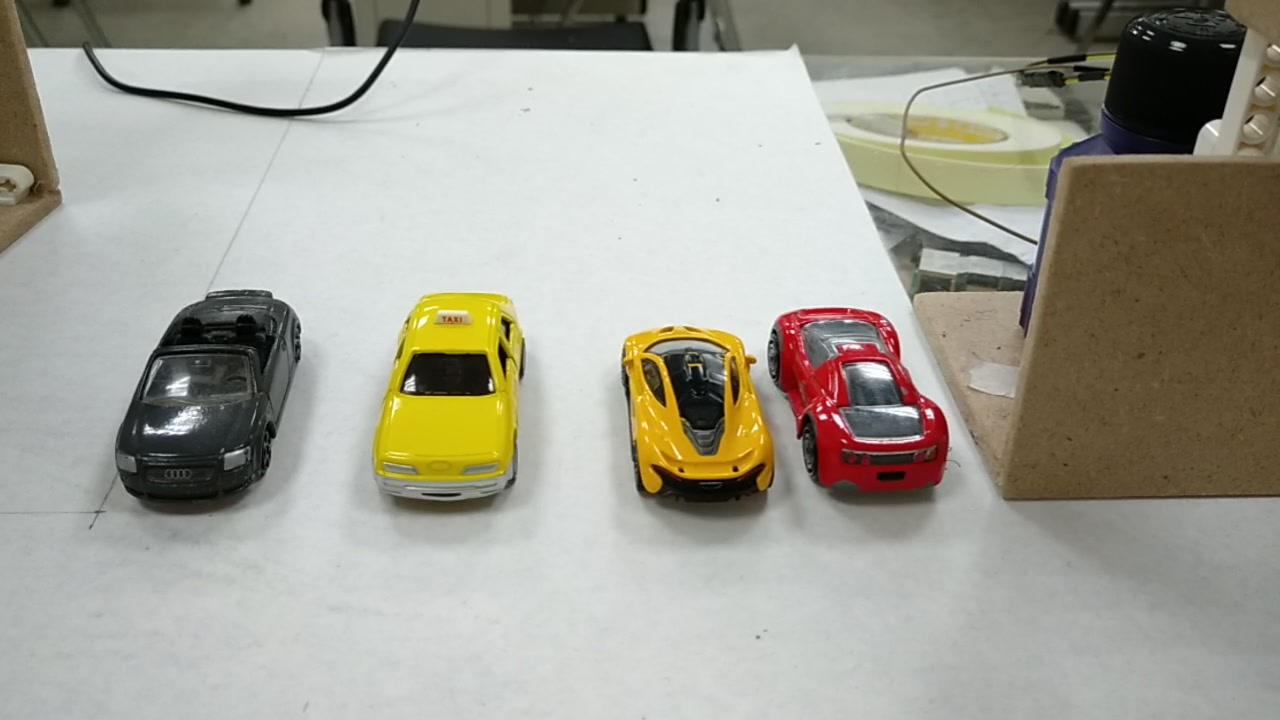car: (109, 288, 299, 504), (369, 297, 539, 512), (775, 309, 948, 494), (622, 320, 774, 504)
